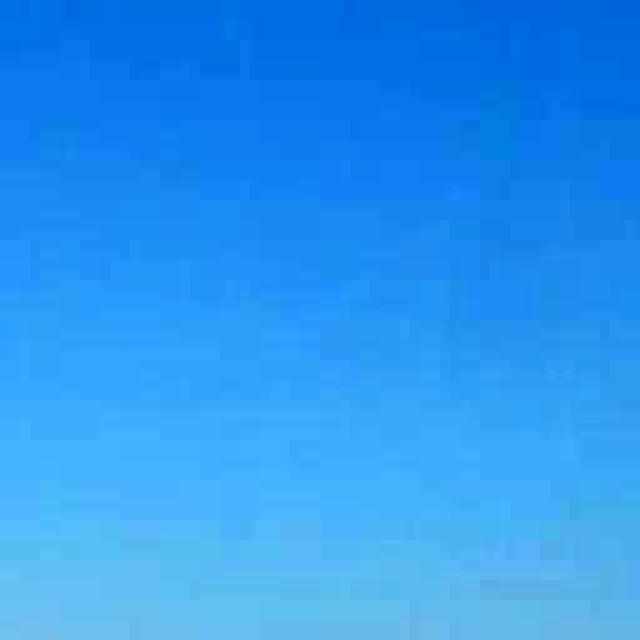bird: (365, 600, 452, 640)
